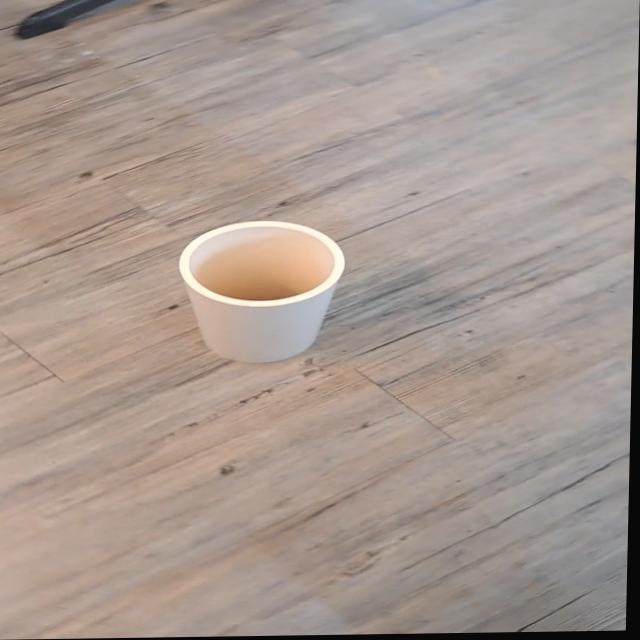CORAL: (155, 207, 364, 378)
